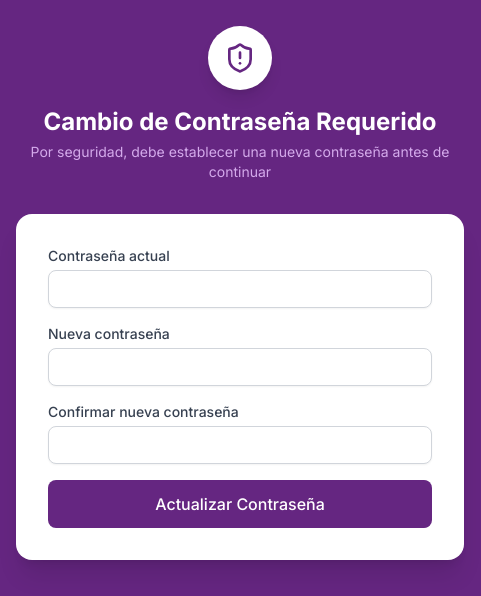
Test: ChangePasswordPage › valida que las contraseñas coincidan
The width and height of the screenshot is (481, 596).
Type "actual123" into the password field labelled "Contraseña actual" at (240, 289), box [48,270,432,308]
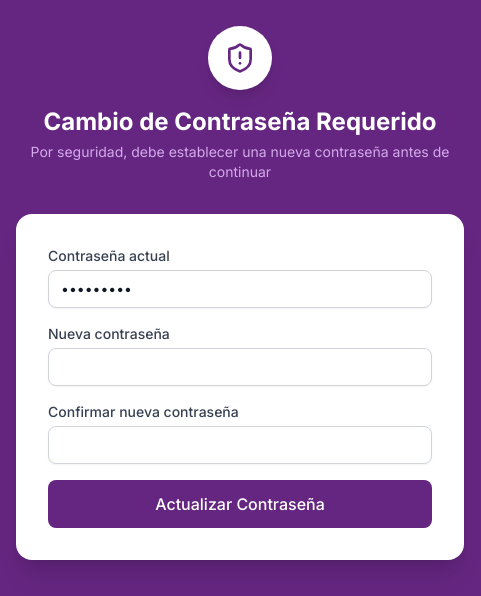
Type "Nueva1234!" into the password field labelled "Nueva contraseña" at (240, 367), box [48,348,432,386]
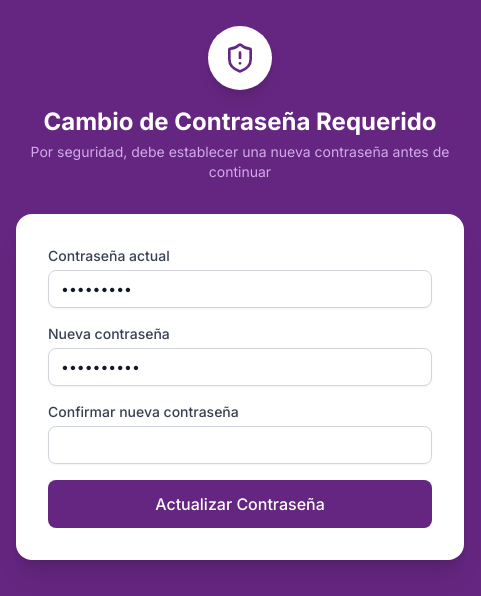
Type "Otra1234!" into the password field labelled "Confirmar nueva contraseña" at (240, 445), box [48,426,432,464]
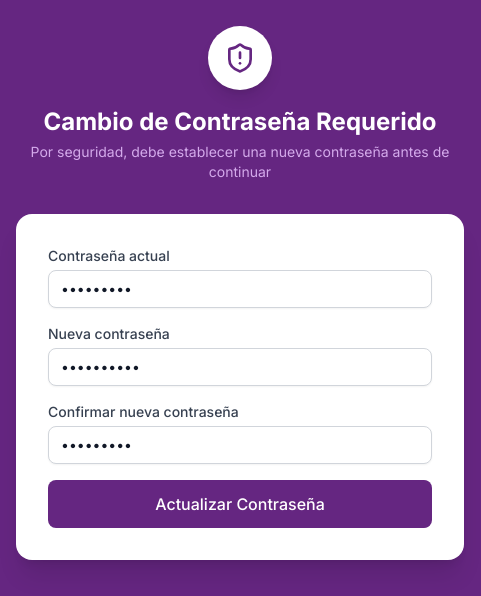
Click the button "Actualizar Contraseña" at (240, 504), box [48,480,432,528]
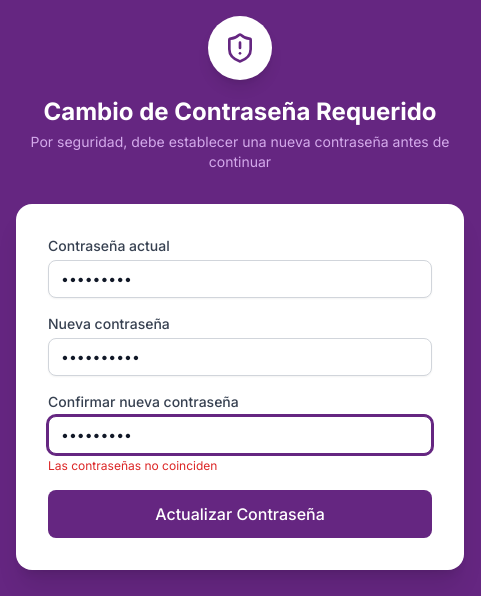
Expected: the text "Las contraseñas no coinciden" is shown, [48,458,217,473]
